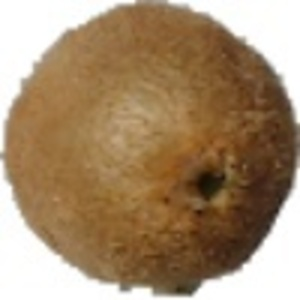kiwi: (1, 1, 300, 299)
